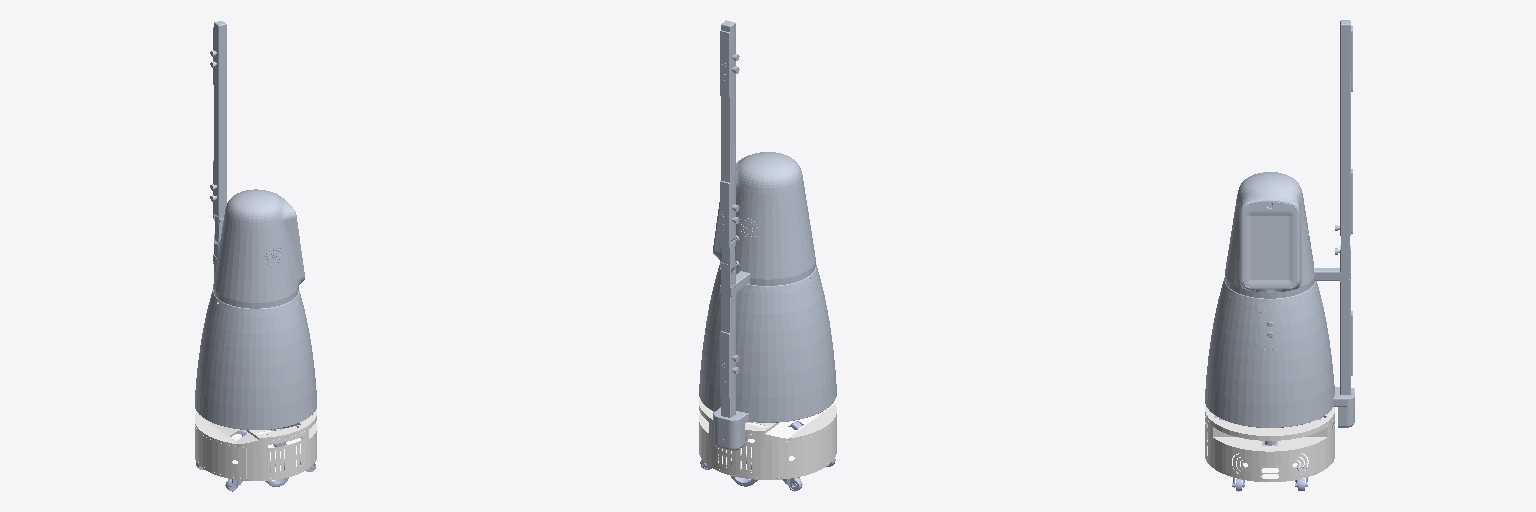
robot.urdf — tjark_inspection:
<?xml version="1.0" encoding="utf-8"?>
<!-- This URDF was automatically created by SolidWorks to URDF Exporter! Originally created by [author] ([email redacted]) 
     Commit Version: 1.6.0-4-g7f85cfe  Build Version: 1.6.7995.38578
     For more information, please see http://wiki.ros.org/sw_urdf_exporter -->
<robot
  name="tjark_inspection">
  <link
    name="base_link">
    <inertial>
      <origin
        xyz="0.0018956 -0.0084099 0.072818"
        rpy="0 0 0" />
      <mass
        value="6.1208" />
      <inertia
        ixx="0.033042"
        ixy="-4.2406E-06"
        ixz="-2.8057E-05"
        iyy="0.026965"
        iyz="-7.7503E-06"
        izz="0.053547" />
    </inertial>
    <visual>
      <origin
        xyz="0 0 0"
        rpy="0 0 0" />
      <geometry>
        <mesh
          filename="package://tjark_inspection/meshes/base_link.STL" />
      </geometry>
      <material
        name="">
        <color
          rgba="0.80784 0.84314 0.90588 1" />
      </material>
    </visual>
    <collision>
      <origin
        xyz="0 0 0"
        rpy="0 0 0" />
      <geometry>
        <mesh
          filename="package://tjark_inspection/meshes/base_link.STL" />
      </geometry>
    </collision>
  </link>
  <link
    name="wheel_right">
    <inertial>
      <origin
        xyz="3.6776E-15 0.022584 0.00064847"
        rpy="0 0 0" />
      <mass
        value="0.15974" />
      <inertia
        ixx="0.00022521"
        ixy="4.0356E-19"
        ixz="8.0955E-20"
        iyy="0.00041908"
        iyz="5.5667E-06"
        izz="0.00022537" />
    </inertial>
    <visual>
      <origin
        xyz="0 0 0"
        rpy="0 0 0" />
      <geometry>
        <mesh
          filename="package://tjark_inspection/meshes/wheel_right.STL" />
      </geometry>
      <material
        name="">
        <color
          rgba="0.79216 0.81961 0.93333 1" />
      </material>
    </visual>
    <collision>
      <origin
        xyz="0 0 0"
        rpy="0 0 0" />
      <geometry>
        <mesh
          filename="package://tjark_inspection/meshes/wheel_right.STL" />
      </geometry>
    </collision>
  </link>
  <joint
    name="right_to_base"
    type="continuous">
    <origin
      xyz="0.00044999 -0.19243 -0.012401"
      rpy="0 0 0.0020937" />
    <parent
      link="base_link" />
    <child
      link="wheel_right" />
    <axis
      xyz="0 1 0" />
  </joint>
  <link
    name="wheel_left">
    <inertial>
      <origin
        xyz="4.5242E-15 -0.022584 0.00064847"
        rpy="0 0 0" />
      <mass
        value="0.15974" />
      <inertia
        ixx="0.00022521"
        ixy="2.9488E-21"
        ixz="-1.5727E-20"
        iyy="0.00041908"
        iyz="-5.5667E-06"
        izz="0.00022537" />
    </inertial>
    <visual>
      <origin
        xyz="0 0 0"
        rpy="0 0 0" />
      <geometry>
        <mesh
          filename="package://tjark_inspection/meshes/wheel_left.STL" />
      </geometry>
      <material
        name="">
        <color
          rgba="0.79216 0.81961 0.93333 1" />
      </material>
    </visual>
    <collision>
      <origin
        xyz="0 0 0"
        rpy="0 0 0" />
      <geometry>
        <mesh
          filename="package://tjark_inspection/meshes/wheel_left.STL" />
      </geometry>
    </collision>
  </link>
  <joint
    name="left_to_base"
    type="continuous">
    <origin
      xyz="-0.00035578 0.19242 -0.012401"
      rpy="0 0 0.0020937" />
    <parent
      link="base_link" />
    <child
      link="wheel_left" />
    <axis
      xyz="0 1 0" />
  </joint>
  <link
    name="wheel_lf">
    <inertial>
      <origin
        xyz="0.018484 -0.00012732 -0.030448"
        rpy="0 0 0" />
      <mass
        value="0.076076" />
      <inertia
        ixx="4.0043E-05"
        ixy="8.24E-08"
        ixz="1.5107E-05"
        iyy="5.5058E-05"
        iyz="-1.1589E-07"
        izz="3.5163E-05" />
    </inertial>
    <visual>
      <origin
        xyz="0 0 0"
        rpy="0 0 0" />
      <geometry>
        <mesh
          filename="package://tjark_inspection/meshes/wheel_lf.STL" />
      </geometry>
      <material
        name="">
        <color
          rgba="0.79216 0.81961 0.93333 1" />
      </material>
    </visual>
    <collision>
      <origin
        xyz="0 0 0"
        rpy="0 0 0" />
      <geometry>
        <mesh
          filename="package://tjark_inspection/meshes/wheel_lf.STL" />
      </geometry>
    </collision>
  </link>
  <joint
    name="lf_to_base"
    type="fixed">
    <origin
      xyz="0.1558 0.12032 -0.0025"
      rpy="0 0 0.0020943" />
    <parent
      link="base_link" />
    <child
      link="wheel_lf" />
    <axis
      xyz="0 0 0" />
  </joint>
  <link
    name="wheel_rf">
    <inertial>
      <origin
        xyz="0.018484 -0.00012732 -0.030448"
        rpy="0 0 0" />
      <mass
        value="0.076076" />
      <inertia
        ixx="4.0043E-05"
        ixy="8.24E-08"
        ixz="1.5107E-05"
        iyy="5.5058E-05"
        iyz="-1.1589E-07"
        izz="3.5163E-05" />
    </inertial>
    <visual>
      <origin
        xyz="0 0 0"
        rpy="0 0 0" />
      <geometry>
        <mesh
          filename="package://tjark_inspection/meshes/wheel_rf.STL" />
      </geometry>
      <material
        name="">
        <color
          rgba="0.79216 0.81961 0.93333 1" />
      </material>
    </visual>
    <collision>
      <origin
        xyz="0 0 0"
        rpy="0 0 0" />
      <geometry>
        <mesh
          filename="package://tjark_inspection/meshes/wheel_rf.STL" />
      </geometry>
    </collision>
  </link>
  <joint
    name="rf_to_base"
    type="fixed">
    <origin
      xyz="0.1563 -0.11968 -0.0025"
      rpy="0 0 0.0020943" />
    <parent
      link="base_link" />
    <child
      link="wheel_rf" />
    <axis
      xyz="0 0 0" />
  </joint>
  <link
    name="wheel_lb">
    <inertial>
      <origin
        xyz="-0.018484 0.00012732 -0.030448"
        rpy="0 0 0" />
      <mass
        value="0.076076" />
      <inertia
        ixx="4.0043E-05"
        ixy="8.24E-08"
        ixz="-1.5107E-05"
        iyy="5.5058E-05"
        iyz="1.1589E-07"
        izz="3.5163E-05" />
    </inertial>
    <visual>
      <origin
        xyz="0 0 0"
        rpy="0 0 0" />
      <geometry>
        <mesh
          filename="package://tjark_inspection/meshes/wheel_lb.STL" />
      </geometry>
      <material
        name="">
        <color
          rgba="0.79216 0.81961 0.93333 1" />
      </material>
    </visual>
    <collision>
      <origin
        xyz="0 0 0"
        rpy="0 0 0" />
      <geometry>
        <mesh
          filename="package://tjark_inspection/meshes/wheel_lb.STL" />
      </geometry>
    </collision>
  </link>
  <joint
    name="lb_to_base"
    type="fixed">
    <origin
      xyz="-0.1562 0.11967 -0.0025"
      rpy="0 0 0.0020943" />
    <parent
      link="base_link" />
    <child
      link="wheel_lb" />
    <axis
      xyz="0 0 0" />
  </joint>
  <link
    name="wheel_rb">
    <inertial>
      <origin
        xyz="-0.018484 0.00012732 -0.030448"
        rpy="0 0 0" />
      <mass
        value="0.076076" />
      <inertia
        ixx="4.0043E-05"
        ixy="8.24E-08"
        ixz="-1.5107E-05"
        iyy="5.5058E-05"
        iyz="1.1589E-07"
        izz="3.5163E-05" />
    </inertial>
    <visual>
      <origin
        xyz="0 0 0"
        rpy="0 0 0" />
      <geometry>
        <mesh
          filename="package://tjark_inspection/meshes/wheel_rb.STL" />
      </geometry>
      <material
        name="">
        <color
          rgba="0.79216 0.81961 0.93333 1" />
      </material>
    </visual>
    <collision>
      <origin
        xyz="0 0 0"
        rpy="0 0 0" />
      <geometry>
        <mesh
          filename="package://tjark_inspection/meshes/wheel_rb.STL" />
      </geometry>
    </collision>
  </link>
  <joint
    name="rb_to_base"
    type="fixed">
    <origin
      xyz="-0.1557 -0.12033 -0.0025"
      rpy="0 0 0.0020943" />
    <parent
      link="base_link" />
    <child
      link="wheel_rb" />
    <axis
      xyz="0 0 0" />
  </joint>
  <link
    name="laser_link">
    <inertial>
      <origin
        xyz="-0.0036015 5.8764E-09 -0.030808"
        rpy="0 0 0" />
      <mass
        value="0.21915" />
      <inertia
        ixx="0.00016497"
        ixy="1.8787E-10"
        ixz="-7.1144E-07"
        iyy="0.00017063"
        iyz="-5.4041E-11"
        izz="0.00011099" />
    </inertial>
    <visual>
      <origin
        xyz="0 0 0"
        rpy="0 0 0" />
      <geometry>
        <mesh
          filename="package://tjark_inspection/meshes/laser_link.STL" />
      </geometry>
      <material
        name="">
        <color
          rgba="0.80784 0.84314 0.90588 1" />
      </material>
    </visual>
    <collision>
      <origin
        xyz="0 0 0"
        rpy="0 0 0" />
      <geometry>
        <mesh
          filename="package://tjark_inspection/meshes/laser_link.STL" />
      </geometry>
    </collision>
  </link>
  <joint
    name="laser_to_base"
    type="fixed">
    <origin
      xyz="0.16786 0.00034612 0.14562"
      rpy="0 0 3.14" />
    <parent
      link="base_link" />
    <child
      link="laser_link" />
    <axis
      xyz="0 0 0" />
  </joint>
  <link
    name="body_link">
    <inertial>
      <origin
        xyz="0.0036772 0.048985 0.38498"
        rpy="0 0 0" />
      <mass
        value="7.4064" />
      <inertia
        ixx="0.25628"
        ixy="-0.00049492"
        ixz="-0.00081046"
        iyy="0.24921"
        iyz="-0.0010014"
        izz="0.22312" />
    </inertial>
    <visual>
      <origin
        xyz="0 0 0"
        rpy="0 0 0" />
      <geometry>
        <mesh
          filename="package://tjark_inspection/meshes/body_link.STL" />
      </geometry>
      <material
        name="">
        <color
          rgba="0.80784 0.84314 0.90588 1" />
      </material>
    </visual>
    <collision>
      <origin
        xyz="0 0 0"
        rpy="0 0 0" />
      <geometry>
        <mesh
          filename="package://tjark_inspection/meshes/body_link.STL" />
      </geometry>
    </collision>
  </link>
  <joint
    name="body_to_base"
    type="fixed">
    <origin
      xyz="-0.0015958 0 0.225"
      rpy="0 0 0.0020937" />
    <parent
      link="base_link" />
    <child
      link="body_link" />
    <axis
      xyz="0 0 0" />
  </joint>
  <link
    name="screen_link">
    <inertial>
      <origin
        xyz="-0.018041 -0.0031939 -0.00013558"
        rpy="0 0 0" />
      <mass
        value="1.89" />
      <inertia
        ixx="0.017385"
        ixy="-8.454E-06"
        ixz="-7.9392E-07"
        iyy="0.012683"
        iyz="4.2211E-08"
        izz="0.0052242" />
    </inertial>
    <visual>
      <origin
        xyz="0 0 0"
        rpy="0 0 0" />
      <geometry>
        <mesh
          filename="package://tjark_inspection/meshes/screen_link.STL" />
      </geometry>
      <material
        name="">
        <color
          rgba="0.80784 0.84314 0.90588 1" />
      </material>
    </visual>
    <collision>
      <origin
        xyz="0 0 0"
        rpy="0 0 0" />
      <geometry>
        <mesh
          filename="package://tjark_inspection/meshes/screen_link.STL" />
      </geometry>
    </collision>
  </link>
  <joint
    name="screen_to_body"
    type="fixed">
    <origin
      xyz="0.14723 0 0.71138"
      rpy="0 -0.14137 0" />
    <parent
      link="body_link" />
    <child
      link="screen_link" />
    <axis
      xyz="0 0 0" />
  </joint>
  <link
    name="shell_link">
    <inertial>
      <origin
        xyz="0 0 0"
        rpy="0 0 0" />
      <mass
        value="0" />
      <inertia
        ixx="0"
        ixy="0"
        ixz="0"
        iyy="0"
        iyz="0"
        izz="0" />
    </inertial>
    <visual>
      <origin
        xyz="0 0 0"
        rpy="0 0 0" />
      <geometry>
        <mesh
          filename="package://tjark_inspection/meshes/shell_link.STL" />
      </geometry>
      <material
        name="">
        <color
          rgba="1 1 1 1" />
      </material>
    </visual>
    <collision>
      <origin
        xyz="0 0 0"
        rpy="0 0 0" />
      <geometry>
        <mesh
          filename="package://tjark_inspection/meshes/shell_link.STL" />
      </geometry>
    </collision>
  </link>
  <joint
    name="shell_to_base"
    type="fixed">
    <origin
      xyz="0.023809 4.4525E-05 0.093948"
      rpy="0 0 0.0020937" />
    <parent
      link="base_link" />
    <child
      link="shell_link" />
    <axis
      xyz="0 0 0" />
  </joint>
</robot>

--- Facts derived from the render (not from the file) ---
3 views of the same robot in one strip: view 1: azimuth 30°, elevation 25°; view 2: azimuth 150°, elevation 25°; view 3: azimuth 270°, elevation 25° (orthographic).
Robot: tjark_inspection — 11 links, 10 joints (2 continuous, 8 fixed); root link base_link; default pose: every joint at zero.
Links seen in each view (by area): view 1: body_link, shell_link; view 2: body_link, shell_link; view 3: body_link, shell_link, screen_link.
Boxes of the visible links, x1,y1,x2,y2 form: body_link: (195, 21, 316, 429); shell_link: (195, 409, 316, 480); body_link: (699, 20, 836, 450); shell_link: (699, 399, 836, 479); body_link: (1205, 20, 1354, 427); shell_link: (1205, 405, 1334, 481); screen_link: (1251, 216, 1288, 279).
Bounding box of the posed robot: 0.5 × 0.5758 × 1.89 m (x, y, z).
10 mesh visuals loaded from 11 distinct referenced files (10 binary STL); not drawn: 1 (reference not matched to a file when rendering).
